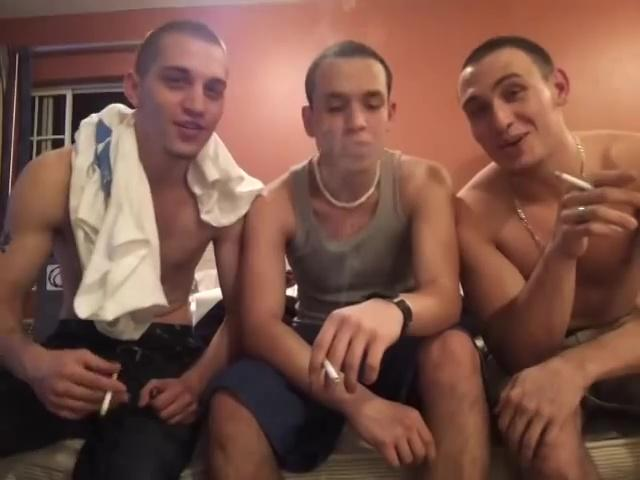cigarette: (98, 369, 123, 419), (555, 170, 600, 194), (321, 360, 343, 386)
